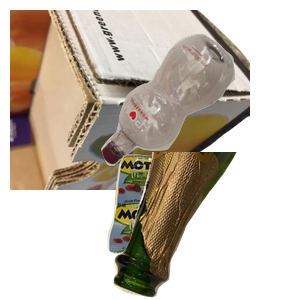cardboard: (10, 10, 250, 190)
glass: (111, 152, 300, 300)
plastic: (99, 31, 300, 189)
trash: (105, 152, 280, 300)
